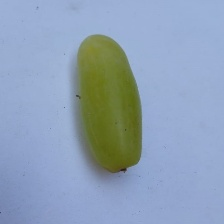grapes: (37, 18, 214, 219)
